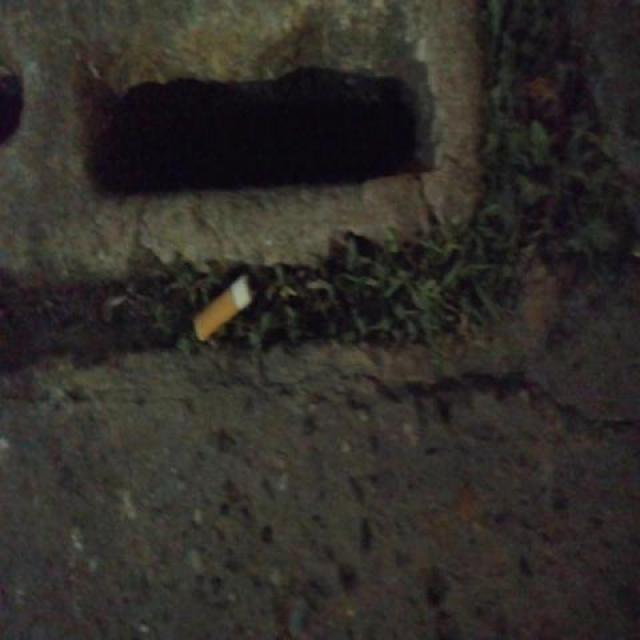non-organic waste: (190, 270, 259, 346)
